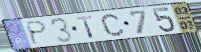3: (50, 17, 75, 44)
5: (150, 6, 177, 33)
7: (128, 9, 149, 36)
C: (100, 13, 126, 37)
P: (26, 20, 49, 46)
T: (75, 15, 96, 39)
